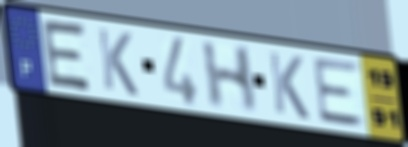4: (160, 33, 201, 109)
E: (39, 17, 95, 95), (310, 56, 369, 130)
H: (199, 40, 260, 116)
K: (94, 25, 141, 99), (266, 49, 312, 123)
